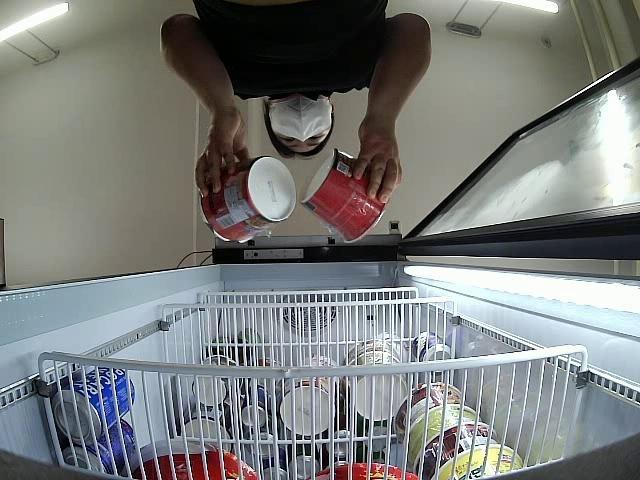01_ShinRamen_L: (200, 155, 295, 242), (301, 149, 386, 242)
